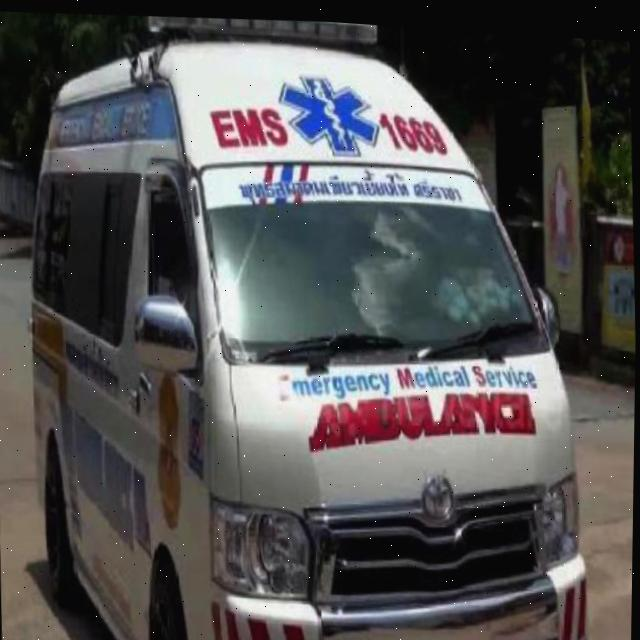emergency: (15, 1, 601, 640)
